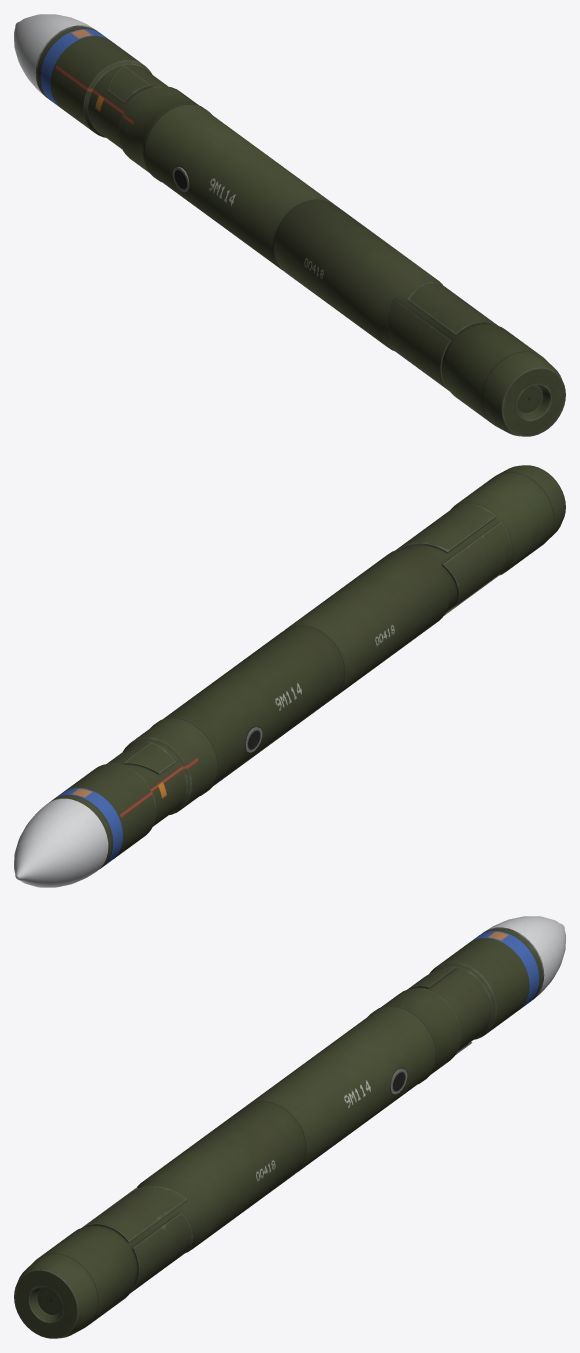
File: msl114.glb
3 views of the same model, one above another, from view 1: azimuth 30°, elevation 25°; view 2: azimuth 150°, elevation 25°; view 3: azimuth 330°, elevation 25° (orthographic).
Visible parts, largest first — view 1: MSL_body, wing2, wing1, fin1; view 2: MSL_body, wing2, wing1, fin1; view 3: MSL_body, wing1, wing4.
Part boxes in pixels (bbox=[...]): MSL_body: bbox=[14, 14, 565, 436]; wing2: bbox=[387, 297, 451, 387]; wing1: bbox=[407, 282, 497, 335]; fin1: bbox=[107, 65, 151, 102]; MSL_body: bbox=[14, 465, 565, 887]; wing2: bbox=[442, 522, 511, 605]; wing1: bbox=[395, 504, 495, 552]; fin1: bbox=[124, 742, 175, 774]; MSL_body: bbox=[14, 916, 565, 1338]; wing1: bbox=[84, 1186, 186, 1242]; wing4: bbox=[130, 1212, 192, 1293].
Bounding box in the file's own units: 0.1324 × 0.1324 × 1.6.
Materials: 4 (4 with a texture image).
